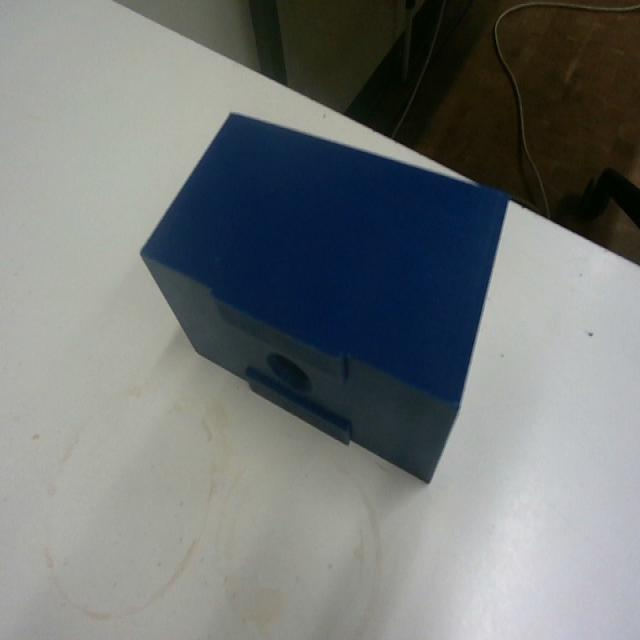Blue Cuboid: (138, 107, 514, 484)
